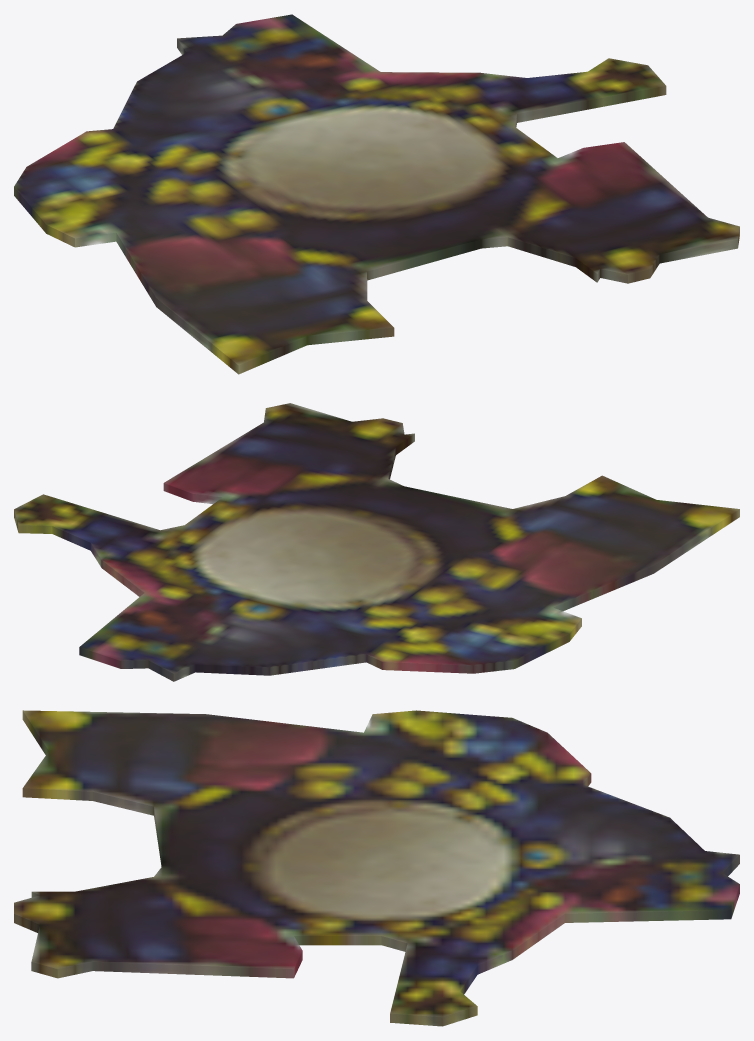
The model's file is RongMay.glb.
3 renders of one model, top to bottom at view 1: azimuth 30°, elevation 25°; view 2: azimuth 150°, elevation 25°; view 3: azimuth 270°, elevation 25°, orthographic. The views are drawn at different scales.
Parts seen in each view (by area): view 1: RongMay; view 2: RongMay; view 3: RongMay.
Part boxes in pixels (x1,y1,x2,y2): RongMay: (14,14,739,374); RongMay: (14,403,739,681); RongMay: (14,710,739,1026).
Size of the model in its own units: 0.3561 by 0.005 by 0.3561.
Materials: 1 (1 with a texture image).
